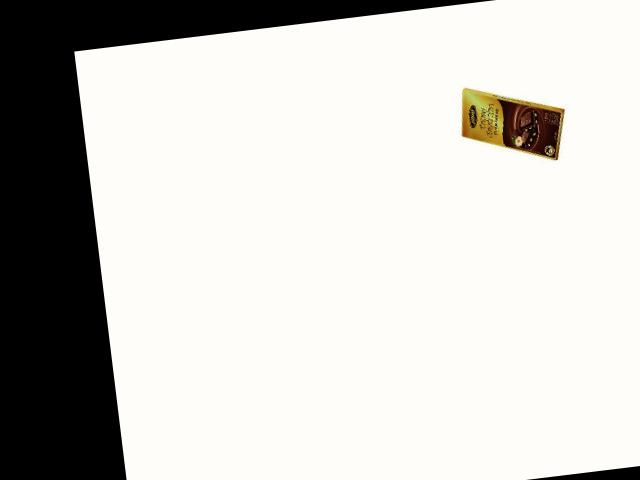chocolate: (455, 72, 580, 171)
